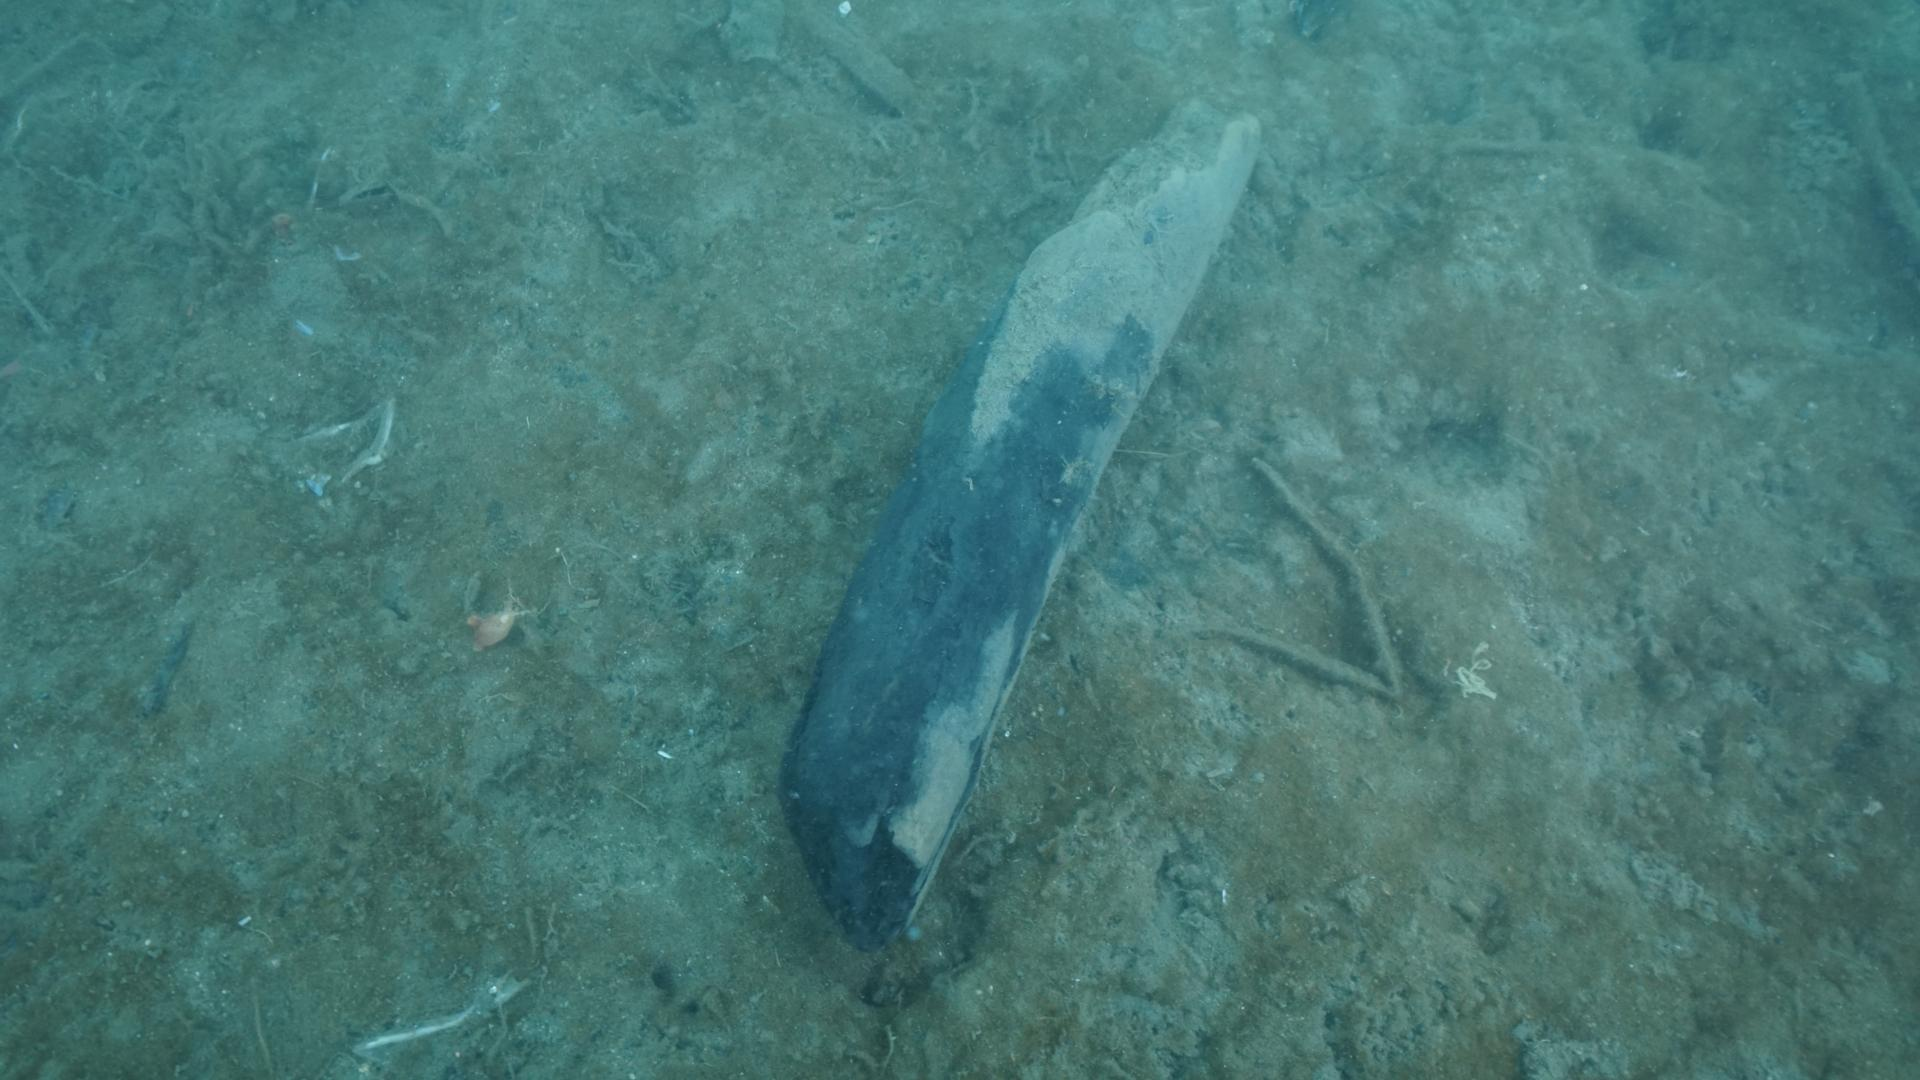wood: (774, 96, 1275, 955)
